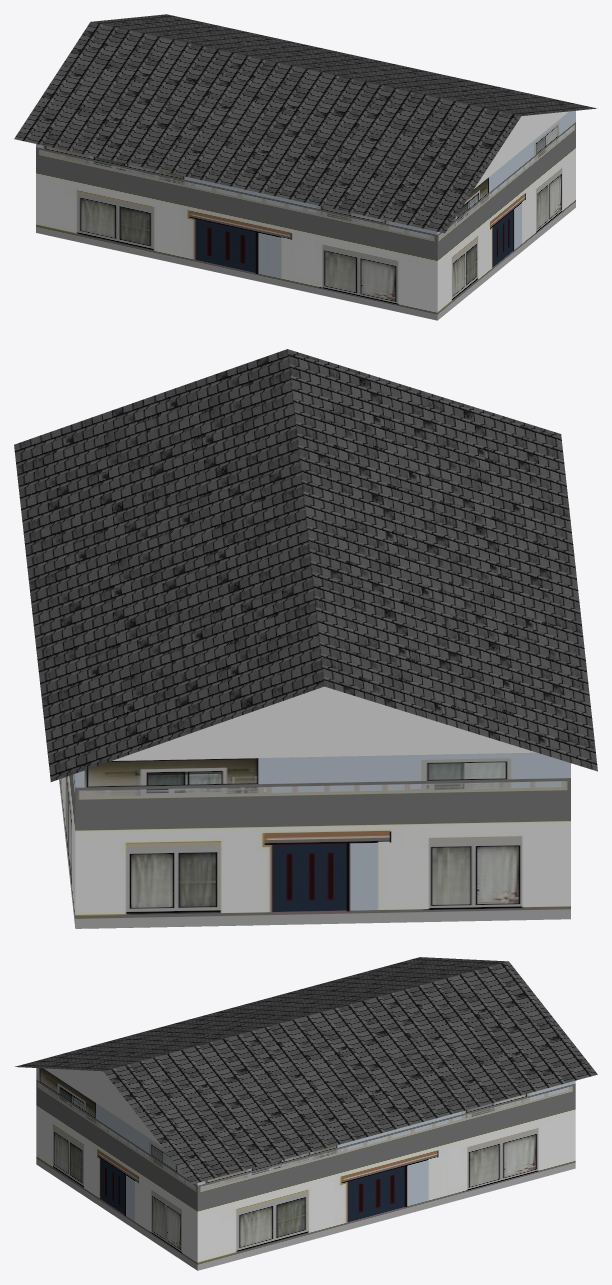
3 renders of one model, top to bottom at view 1: azimuth 30°, elevation 25°; view 2: azimuth 150°, elevation 25°; view 3: azimuth 270°, elevation 25°, orthographic. The views are drawn at different scales.
Parts seen in each view (by area): view 1: CityEngineMaterial_8_m, CityEngineMaterial_7_m, CityEngineMaterial_3_m; view 2: CityEngineMaterial_8_m, CityEngineMaterial_7_m, CityEngineMaterial_3_m; view 3: CityEngineMaterial_8_m, CityEngineMaterial_7_m, CityEngineMaterial_3_m.
Part boxes in pixels (left/top/right/bottom): CityEngineMaterial_8_m: left=14, top=14, right=597, bottom=233; CityEngineMaterial_7_m: left=36, top=110, right=575, bottom=320; CityEngineMaterial_3_m: left=474, top=111, right=568, bottom=188; CityEngineMaterial_8_m: left=14, top=349, right=597, bottom=781; CityEngineMaterial_7_m: left=59, top=752, right=570, bottom=928; CityEngineMaterial_3_m: left=112, top=686, right=536, bottom=760; CityEngineMaterial_8_m: left=15, top=957, right=597, bottom=1184; CityEngineMaterial_7_m: left=36, top=1068, right=575, bottom=1270; CityEngineMaterial_3_m: left=44, top=1068, right=161, bottom=1146.
Size of the model in its own units: 32.53 by 10.02 by 35.3.
